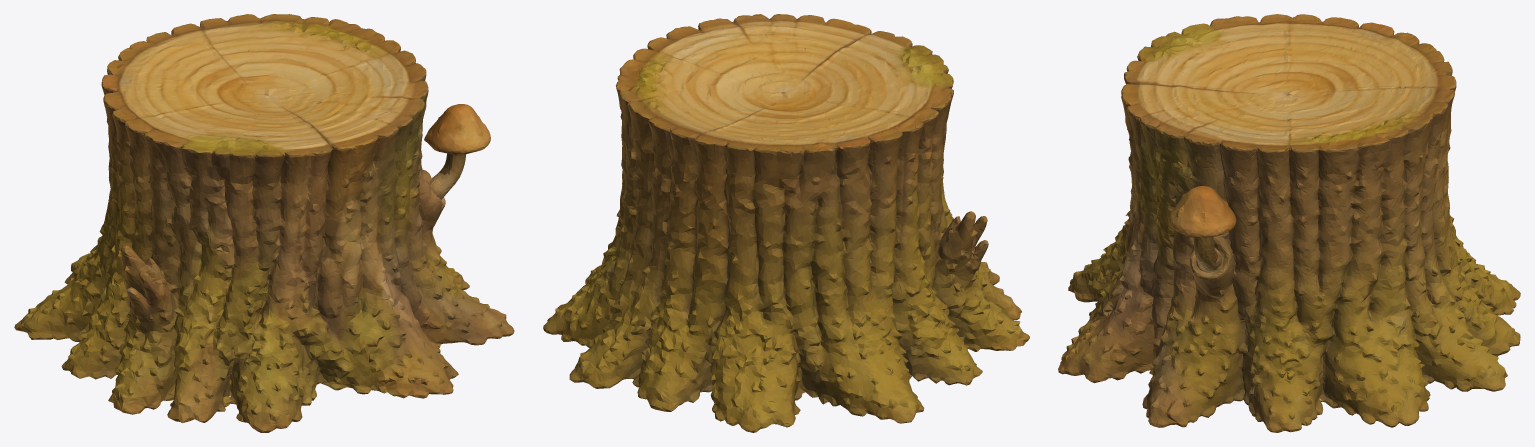
File: prop-stump.glb
3 renders of one model, left to right at view 1: azimuth 30°, elevation 25°; view 2: azimuth 150°, elevation 25°; view 3: azimuth 270°, elevation 25°, orthographic. The views are drawn at different scales.
Visible parts, largest first — view 1: geometry_0; view 2: geometry_0; view 3: geometry_0.
Boxes of the visible parts, left/top/right/bottom form: geometry_0: left=14, top=14, right=514, bottom=432; geometry_0: left=543, top=14, right=1029, bottom=432; geometry_0: left=1058, top=14, right=1520, bottom=432.
Size of the model in its own units: 2 by 1.23 by 2.
1 material, 1 textured.
